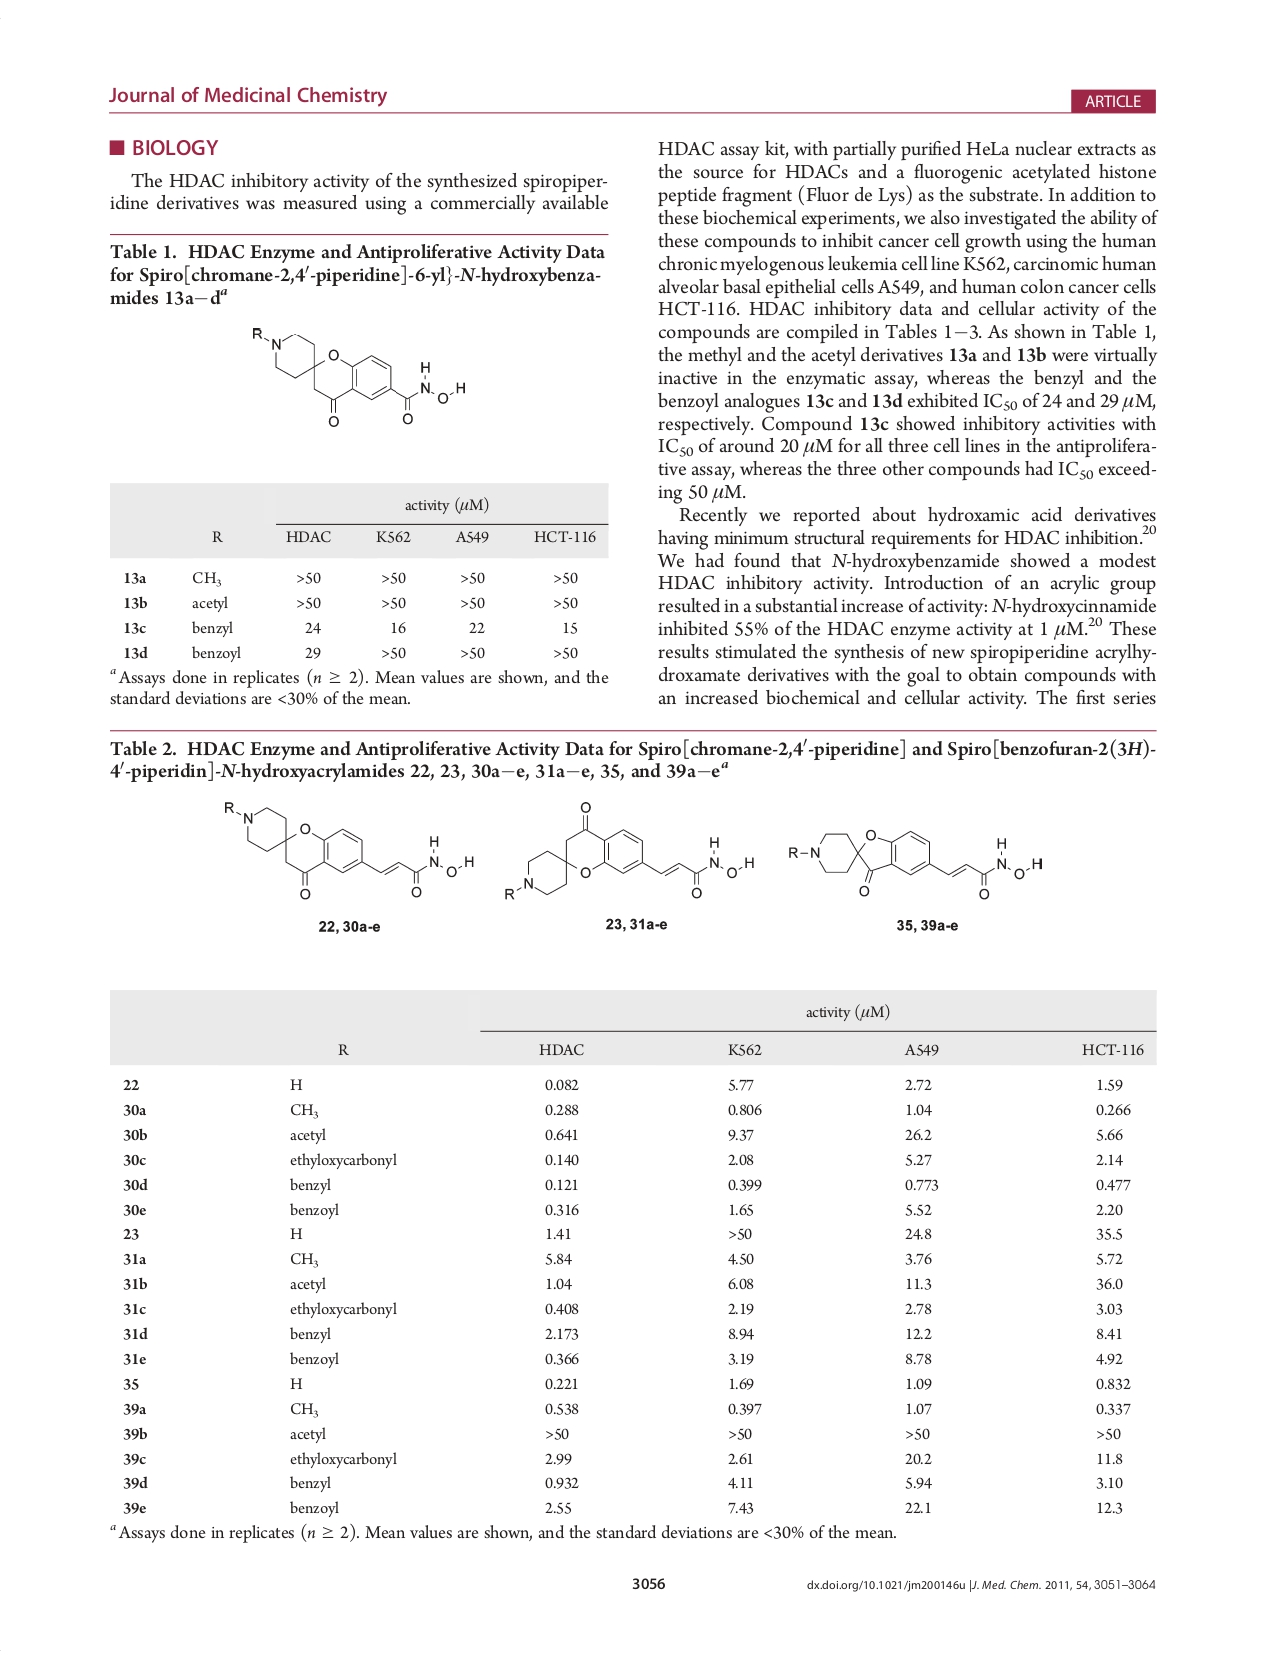exist_molecular: (217, 794, 481, 907), (501, 797, 759, 903), (239, 321, 469, 436), (785, 825, 1047, 904)
